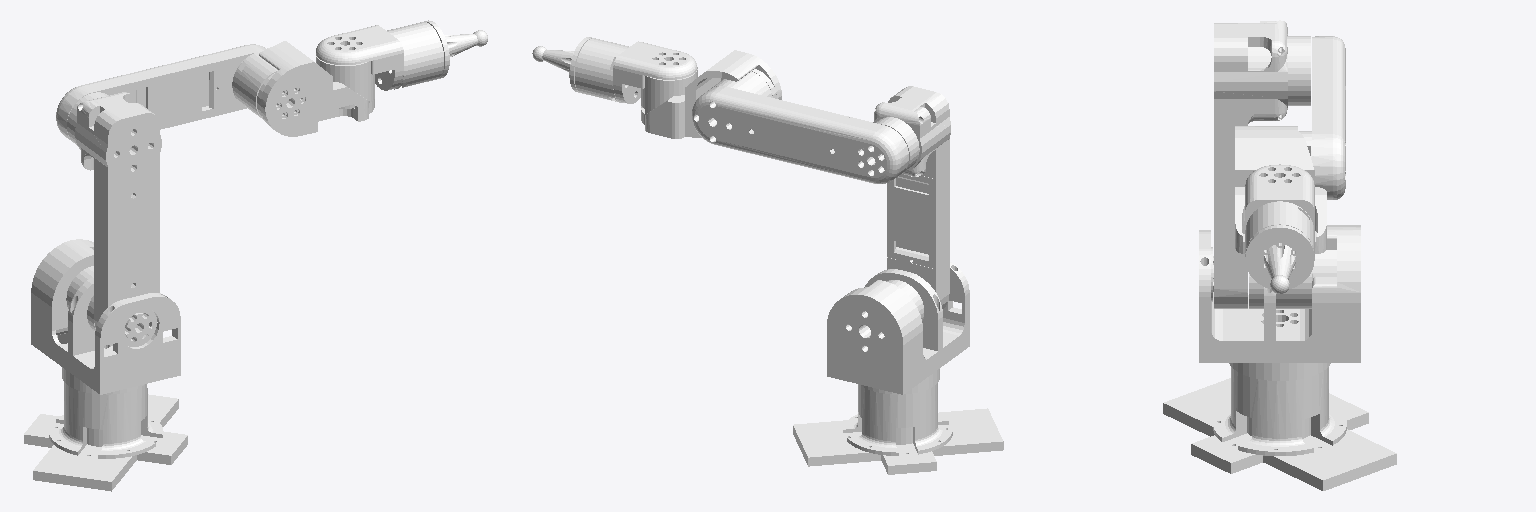
The robot description file, URDF, robot "装配体1 - 副本":
<?xml version="1.0" encoding="utf-8"?>
<!-- This URDF was automatically created by SolidWorks to URDF Exporter! Originally created by Stephen Brawner (brawner@gmail.com) 
     Commit Version: 1.6.0-4-g7f85cfe  Build Version: 1.6.7995.38578
     For more information, please see http://wiki.ros.org/sw_urdf_exporter -->
<robot
  name="装配体1 - 副本">
  <link
    name="base_link">
    <inertial>
      <origin
        xyz="-2.4980018054066E-16 2.43294967505747E-16 -0.11853174779066"
        rpy="0 0 0" />
      <mass
        value="0.517606255710385" />
      <inertia
        ixx="0.000592306653035148"
        ixy="-0.000166454385824978"
        ixz="3.9259866374202E-21"
        iyy="0.000637779169553569"
        iyz="1.77508295288068E-19"
        izz="0.00105372877542787" />
    </inertial>
    <visual>
      <origin
        xyz="0 0 0"
        rpy="0 0 0" />
      <geometry>
        <mesh
          filename="package://装配体1 - 副本/meshes/base_link.STL" />
      </geometry>
      <material
        name="">
        <color
          rgba="1 1 1 1" />
      </material>
    </visual>
    <collision>
      <origin
        xyz="0 0 0"
        rpy="0 0 0" />
      <geometry>
        <mesh
          filename="package://装配体1 - 副本/meshes/base_link.STL" />
      </geometry>
    </collision>
  </link>
  <link
    name="link1">
    <inertial>
      <origin
        xyz="0.000374450416038785 0.0111229998383012 -0.0214254081680802"
        rpy="0 0 0" />
      <mass
        value="0.663978578263864" />
      <inertia
        ixx="0.00126133555961573"
        ixy="-4.76406131723195E-06"
        ixz="2.0228038663912E-05"
        iyy="0.000779891131998164"
        iyz="-0.000257606032325082"
        izz="0.00120852027602765" />
    </inertial>
    <visual>
      <origin
        xyz="0 0 0"
        rpy="0 0 0" />
      <geometry>
        <mesh
          filename="package://装配体1 - 副本/meshes/link1.STL" />
      </geometry>
      <material
        name="">
        <color
          rgba="1 1 1 1" />
      </material>
    </visual>
    <collision>
      <origin
        xyz="0 0 0"
        rpy="0 0 0" />
      <geometry>
        <mesh
          filename="package://装配体1 - 副本/meshes/link1.STL" />
      </geometry>
    </collision>
  </link>
  <joint
    name="joint1"
    type="revolute">
    <origin
      xyz="0 0 0"
      rpy="0 0 0" />
    <parent
      link="base_link" />
    <child
      link="link1" />
    <axis
      xyz="0 0 1" />
    <limit
      lower="0"
      upper="0"
      effort="0"
      velocity="0" />
  </joint>
  <link
    name="link2">
    <inertial>
      <origin
        xyz="0.117751660310579 -8.92717309040891E-05 0.00717251162402563"
        rpy="0 0 0" />
      <mass
        value="0.804799513800917" />
      <inertia
        ixx="0.000342125336932164"
        ixy="-2.67494530781027E-06"
        ixz="0.000174571644956878"
        iyy="0.00379387957641785"
        iyz="-9.45636353565841E-07"
        izz="0.00388838761852587" />
    </inertial>
    <visual>
      <origin
        xyz="0 0 0"
        rpy="0 0 0" />
      <geometry>
        <mesh
          filename="package://装配体1 - 副本/meshes/link2.STL" />
      </geometry>
      <material
        name="">
        <color
          rgba="1 1 1 1" />
      </material>
    </visual>
    <collision>
      <origin
        xyz="0 0 0"
        rpy="0 0 0" />
      <geometry>
        <mesh
          filename="package://装配体1 - 副本/meshes/link2.STL" />
      </geometry>
    </collision>
  </link>
  <joint
    name="joint2"
    type="revolute">
    <origin
      xyz="0 -0.0256 0"
      rpy="1.5708 -1.5708 0" />
    <parent
      link="link1" />
    <child
      link="link2" />
    <axis
      xyz="0 0 1" />
    <limit
      lower="0"
      upper="0"
      effort="0"
      velocity="0" />
  </joint>
  <link
    name="link3">
    <inertial>
      <origin
        xyz="0.103871383586831 -6.63756139526184E-05 0.0346856636391665"
        rpy="0 0 0" />
      <mass
        value="0.692037693150155" />
      <inertia
        ixx="0.000225086156658224"
        ixy="2.03655299749014E-06"
        ixz="6.0792138174113E-05"
        iyy="0.00284402641815753"
        iyz="-3.20680334913332E-07"
        izz="0.00297633096265861" />
    </inertial>
    <visual>
      <origin
        xyz="0 0 0"
        rpy="0 0 0" />
      <geometry>
        <mesh
          filename="package://装配体1 - 副本/meshes/link3.STL" />
      </geometry>
      <material
        name="">
        <color
          rgba="1 1 1 1" />
      </material>
    </visual>
    <collision>
      <origin
        xyz="0 0 0"
        rpy="0 0 0" />
      <geometry>
        <mesh
          filename="package://装配体1 - 副本/meshes/link3.STL" />
      </geometry>
    </collision>
  </link>
  <joint
    name="joint3"
    type="revolute">
    <origin
      xyz="0.184 0 -0.025125"
      rpy="3.1416 0.022535 -1.5717" />
    <parent
      link="link2" />
    <child
      link="link3" />
    <axis
      xyz="0.022533 -1.9775E-05 0.99975" />
    <limit
      lower="0"
      upper="0"
      effort="0"
      velocity="0" />
  </joint>
  <link
    name="link4">
    <inertial>
      <origin
        xyz="0.0421446831980221 -0.00884010793235568 0.00708260186464707"
        rpy="0 0 0" />
      <mass
        value="0.590663697069762" />
      <inertia
        ixx="0.000516392182553523"
        ixy="0.00015701725905781"
        ixz="0.000170434643145336"
        iyy="0.000753736795818644"
        iyz="-7.12165240934659E-05"
        izz="0.000752300392201107" />
    </inertial>
    <visual>
      <origin
        xyz="0 0 0"
        rpy="0 0 0" />
      <geometry>
        <mesh
          filename="package://装配体1 - 副本/meshes/link4.STL" />
      </geometry>
      <material
        name="">
        <color
          rgba="1 1 1 1" />
      </material>
    </visual>
    <collision>
      <origin
        xyz="0 0 0"
        rpy="0 0 0" />
      <geometry>
        <mesh
          filename="package://装配体1 - 副本/meshes/link4.STL" />
      </geometry>
    </collision>
  </link>
  <joint
    name="joint4"
    type="revolute">
    <origin
      xyz="0.18396 -0.00016145 -0.0036713"
      rpy="-3.1416 0.022535 -0.0008776" />
    <parent
      link="link3" />
    <child
      link="link4" />
    <axis
      xyz="0 0 1" />
    <limit
      lower="0"
      upper="0"
      effort="0"
      velocity="0" />
  </joint>
  <link
    name="link5">
    <inertial>
      <origin
        xyz="-0.000116210514154858 0.0497303960554051 -0.00641028399604388"
        rpy="0 0 0" />
      <mass
        value="0.147677856030897" />
      <inertia
        ixx="7.28077626206215E-05"
        ixy="-2.73353154894024E-07"
        ixz="-2.55805504143909E-07"
        iyy="7.0646746743695E-05"
        iyz="-1.00989320138732E-05"
        izz="7.78913087433125E-05" />
    </inertial>
    <visual>
      <origin
        xyz="0 0 0"
        rpy="0 0 0" />
      <geometry>
        <mesh
          filename="package://装配体1 - 副本/meshes/link5.STL" />
      </geometry>
      <material
        name="">
        <color
          rgba="1 1 1 1" />
      </material>
    </visual>
    <collision>
      <origin
        xyz="0 0 0"
        rpy="0 0 0" />
      <geometry>
        <mesh
          filename="package://装配体1 - 副本/meshes/link5.STL" />
      </geometry>
    </collision>
  </link>
  <joint
    name="joint5"
    type="revolute">
    <origin
      xyz="0.0815 0 0"
      rpy="1.5708 1.5708 0" />
    <parent
      link="link4" />
    <child
      link="link5" />
    <axis
      xyz="0 0 -1" />
    <limit
      lower="0"
      upper="0"
      effort="0"
      velocity="0" />
  </joint>
  <link
    name="link6">
    <inertial>
      <origin
        xyz="-0.000161662255138868 0.000161662270439566 0.0386539134259799"
        rpy="0 0 0" />
      <mass
        value="0.0270167309901042" />
      <inertia
        ixx="1.06028408800723E-05"
        ixy="3.42022927077062E-14"
        ixz="-4.83180547013322E-15"
        iyy="1.06028409138867E-05"
        iyz="-7.77839400068918E-15"
        izz="5.84159490551774E-06" />
    </inertial>
    <visual>
      <origin
        xyz="0 0 0"
        rpy="0 0 0" />
      <geometry>
        <mesh
          filename="package://装配体1 - 副本/meshes/link6.STL" />
      </geometry>
      <material
        name="">
        <color
          rgba="1 1 1 1" />
      </material>
    </visual>
    <collision>
      <origin
        xyz="0 0 0"
        rpy="0 0 0" />
      <geometry>
        <mesh
          filename="package://装配体1 - 副本/meshes/link6.STL" />
      </geometry>
    </collision>
  </link>
  <joint
    name="joint6"
    type="revolute">
    <origin
      xyz="-0.00016166 0.071474 -0.00016166"
      rpy="1.5708 0 3.1416" />
    <parent
      link="link5" />
    <child
      link="link6" />
    <axis
      xyz="0 0 1" />
    <limit
      lower="0"
      upper="0"
      effort="0"
      velocity="0" />
  </joint>
</robot>

--- What the picture shows (computed from the rendered views, not written in the file) ---
The picture shows the robot from 3 angles, left to right: view 1: azimuth 30°, elevation 25°; view 2: azimuth 150°, elevation 25°; view 3: azimuth 270°, elevation 25°; orthographic projection.
Model 装配体1 - 副本 with 7 links and 6 joints (6 revolute), rooted at base_link, posed every joint at zero.
Links seen in each view (by area): view 1: link2, link1, base_link, link3, link4, link5, link6; view 2: link1, link3, base_link, link2, link5, link4, link6; view 3: base_link, link1, link2, link3, link4, link5, link6.
Link boxes in pixels (x1,y1,x2,y2): link2: (67, 92, 161, 344); link1: (31, 239, 180, 394); base_link: (24, 367, 187, 491); link3: (56, 44, 278, 140); link4: (257, 41, 374, 136); link5: (316, 22, 443, 90); link6: (424, 20, 487, 78); link1: (827, 262, 969, 394); link3: (692, 71, 908, 183); base_link: (793, 369, 1003, 474); link2: (873, 86, 950, 308); link5: (575, 38, 697, 103); link4: (641, 50, 781, 138); link6: (532, 37, 591, 92); base_link: (1163, 363, 1396, 490); link1: (1199, 225, 1360, 362); link2: (1213, 20, 1310, 308); link3: (1299, 36, 1345, 199); link4: (1235, 126, 1326, 253); link5: (1245, 164, 1314, 264); link6: (1245, 225, 1314, 293).
Size in the robot's own frame: 0.5245 by 0.1918 by 0.3708 metres.
Meshes: 7 distinct files referenced, 7 mesh visuals loaded (7 binary STL).
